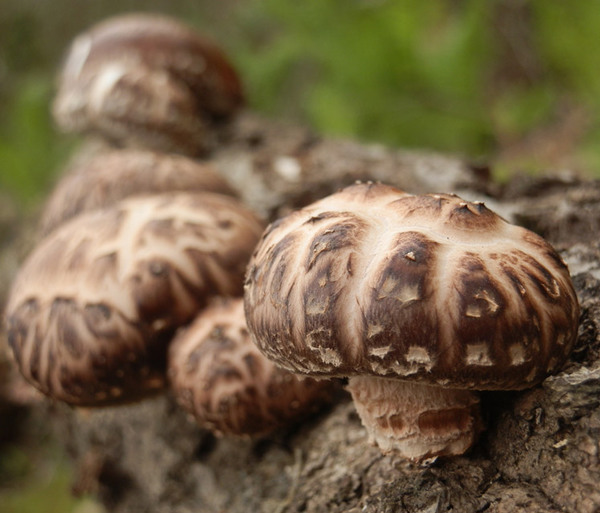H: (249, 166, 576, 476), (16, 205, 185, 445), (170, 299, 321, 456)
